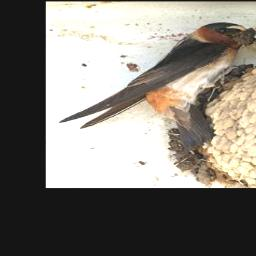Swallow: (56, 22, 256, 131)
